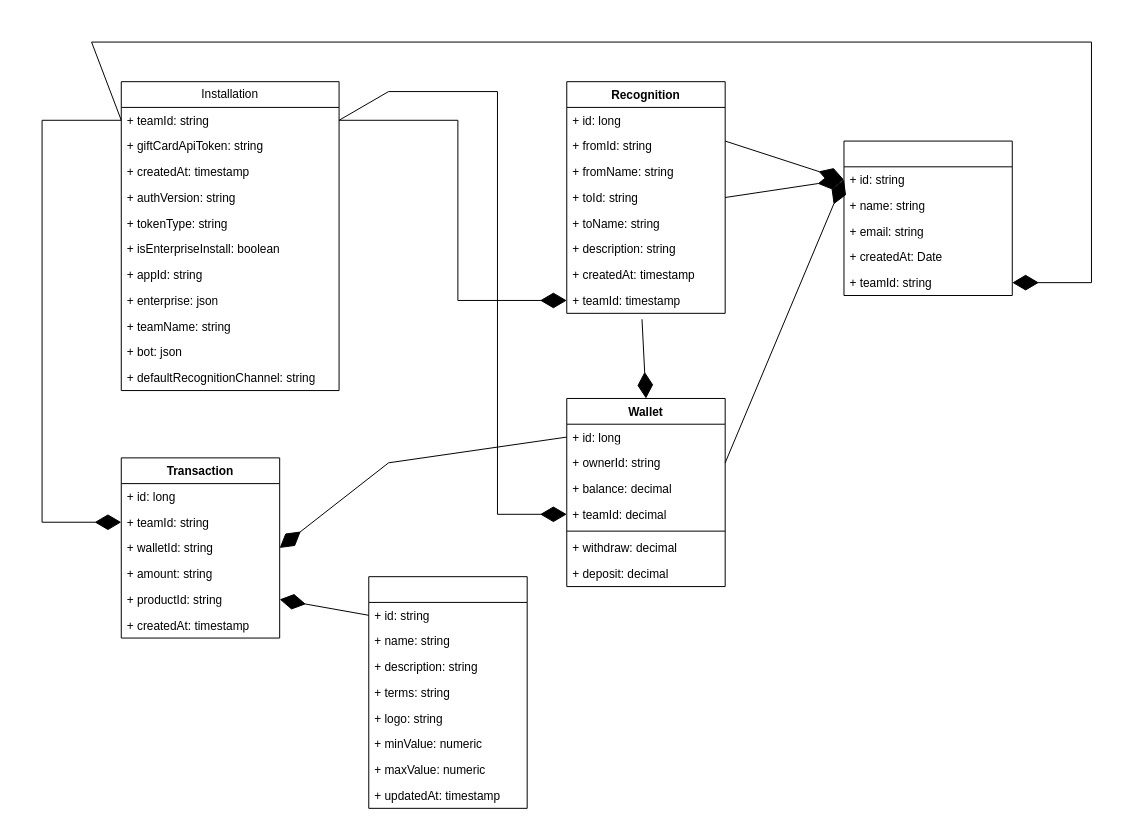
Image size: 1135x829. Some labels were removed from this diagram. The shapes that lost their labels are listed below. From the top down, each one's box as (x1, y1, x2, y2) in pixels, then its label:
(843, 140, 1012, 296): User
(368, 576, 527, 808): Product
